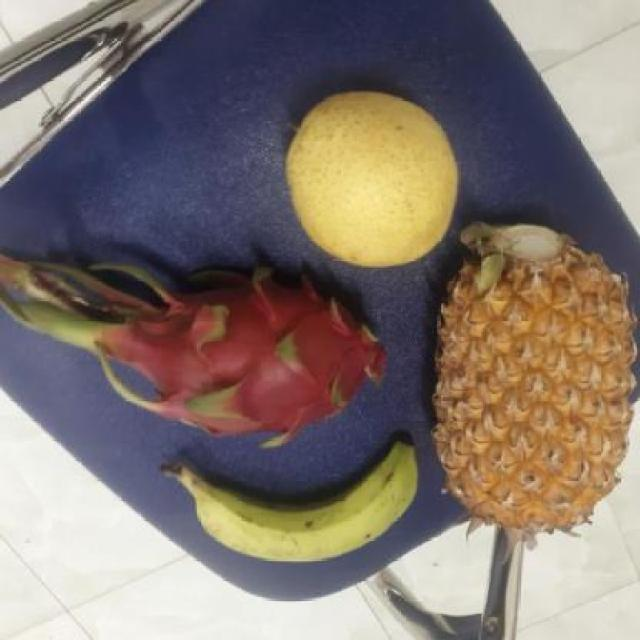banana: (185, 435, 430, 560)
dragon fruit: (126, 262, 406, 446)
pear: (287, 92, 468, 272)
pineapple: (428, 216, 640, 536)
